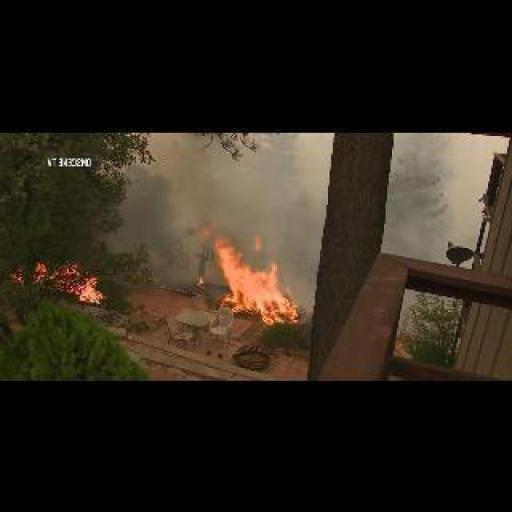smoke: (211, 224, 301, 326), (8, 254, 106, 304)
